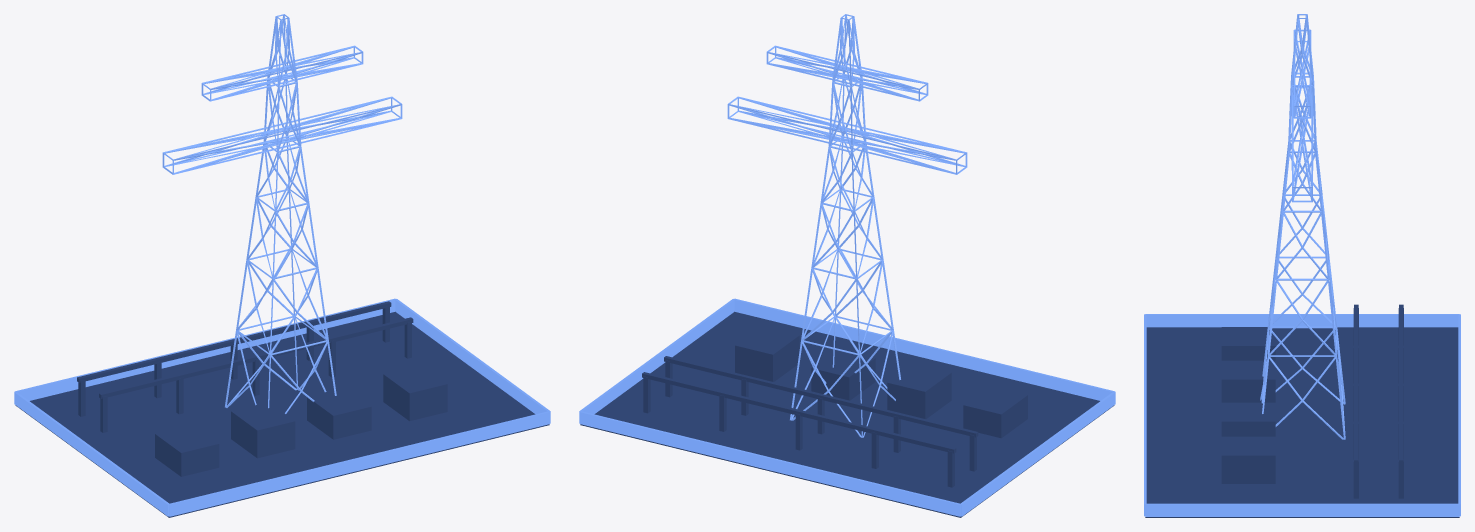
The model's file is models.glb.
3 views of the same model, side by side, from view 1: azimuth 30°, elevation 25°; view 2: azimuth 150°, elevation 25°; view 3: azimuth 270°, elevation 25° (orthographic). The views are drawn at different scales.
Visible parts, largest first — view 1: substation_model, tower_model; view 2: substation_model, tower_model; view 3: substation_model, tower_model.
Boxes of the visible parts, x1,y1,x2,y2 form: substation_model: (14,298,550,517); tower_model: (162,14,402,413); substation_model: (579,298,1115,517); tower_model: (727,14,967,437); substation_model: (1144,304,1460,517); tower_model: (1260,14,1345,439).
Size of the model in its own units: 1.01 by 1 by 0.706.
